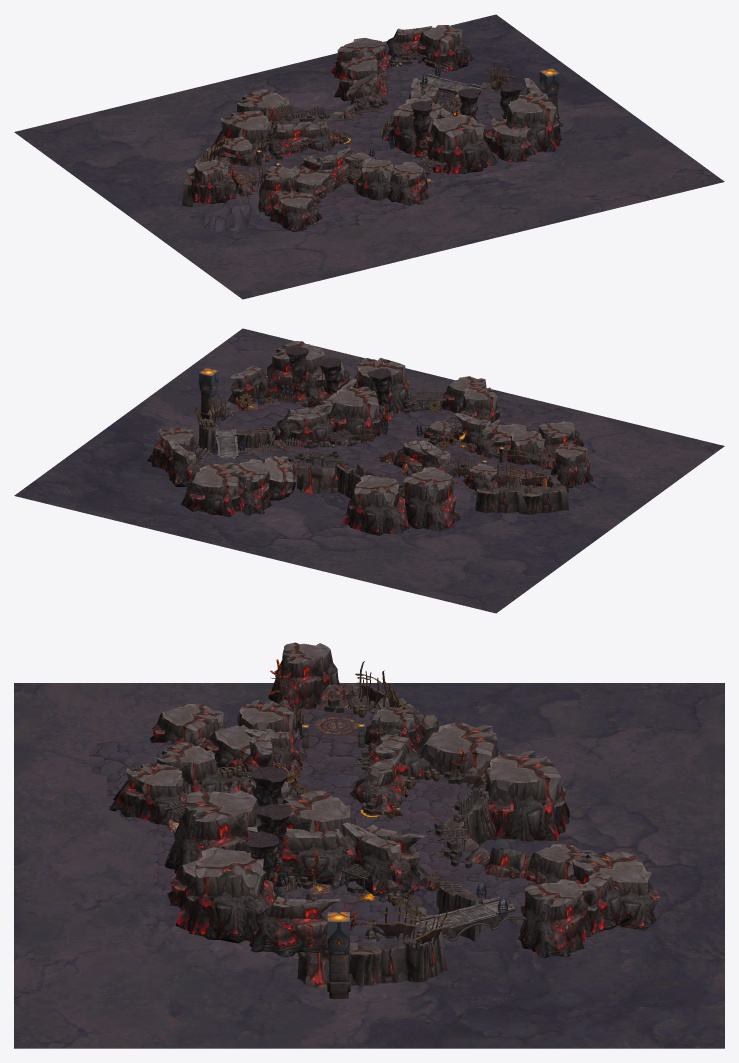
The picture shows the model from 3 angles, top to bottom: view 1: azimuth 30°, elevation 25°; view 2: azimuth 150°, elevation 25°; view 3: azimuth 270°, elevation 25°; orthographic projection. The views are drawn at different scales.
Parts seen in each view (by area): view 1: Plane001, defaultdetachobj224, defaultdetachobj174, defaultdetachobj183, defaultdetachobj178, defaultdetachobj179, defaultdetachobj210, defaultdetachobj203, defaultdetachobj163, defaultdetachobj220, defaultdetachobj171, defaultdetachobj184 (+16 smaller); view 2: Plane001, defaultdetachobj224, defaultdetachobj199, defaultdetachobj163, defaultdetachobj195, defaultdetachobj171, defaultdetachobj183, defaultdetachobj174, defaultdetachobj197, defaultdetachobj210, defaultdetachobj218, defaultdetachobj187 (+26 smaller); view 3: Plane001, defaultdetachobj224, defaultdetachobj183, defaultdetachobj199, defaultdetachobj174, defaultdetachobj178, defaultdetachobj204, defaultdetachobj220, defaultdetachobj195, defaultdetachobj217, defaultdetachobj210, defaultdetachobj163 (+29 smaller).
Boxes of the visible parts, <box> form: Plane001: <box>14,14,724,299</box>; defaultdetachobj224: <box>204,59,521,232</box>; defaultdetachobj174: <box>425,114,497,174</box>; defaultdetachobj183: <box>505,92,561,151</box>; defaultdetachobj178: <box>416,25,473,72</box>; defaultdetachobj179: <box>483,116,537,162</box>; defaultdetachobj210: <box>190,160,236,203</box>; defaultdetachobj203: <box>267,191,322,232</box>; defaultdetachobj163: <box>213,110,271,150</box>; defaultdetachobj220: <box>387,162,428,205</box>; defaultdetachobj171: <box>384,98,440,154</box>; defaultdetachobj184: <box>355,158,393,200</box>; Plane001: <box>14,328,724,613</box>; defaultdetachobj224: <box>200,391,602,490</box>; defaultdetachobj199: <box>342,475,411,535</box>; defaultdetachobj163: <box>400,467,459,531</box>; defaultdetachobj195: <box>181,462,248,516</box>; defaultdetachobj171: <box>327,386,388,440</box>; defaultdetachobj183: <box>266,341,325,398</box>; defaultdetachobj174: <box>352,357,413,412</box>; defaultdetachobj197: <box>234,459,271,515</box>; defaultdetachobj210: <box>550,443,593,488</box>; defaultdetachobj218: <box>475,485,528,512</box>; defaultdetachobj187: <box>287,410,337,446</box>; Plane001: <box>14,683,724,1048</box>; defaultdetachobj224: <box>88,698,541,946</box>; defaultdetachobj183: <box>176,847,275,943</box>; defaultdetachobj199: <box>485,751,569,841</box>; defaultdetachobj174: <box>164,790,261,876</box>; defaultdetachobj178: <box>518,879,591,957</box>; defaultdetachobj204: <box>249,896,340,956</box>; defaultdetachobj220: <box>109,763,191,825</box>; defaultdetachobj195: <box>566,852,660,930</box>; defaultdetachobj217: <box>247,826,357,885</box>; defaultdetachobj210: <box>268,642,340,711</box>; defaultdetachobj163: <box>420,721,502,777</box>.
Size of the model in its own units: 230 by 39 by 189.
